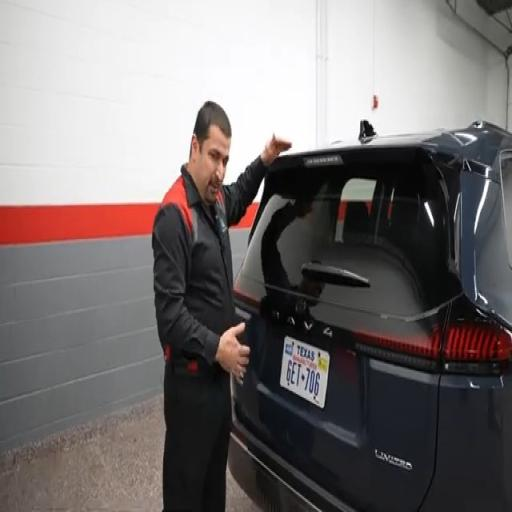bumper: (228, 423, 354, 511)
taillight: (354, 319, 511, 374), (442, 319, 511, 372)
trunk: (234, 150, 449, 511)
window: (242, 163, 448, 315), (500, 153, 511, 267)
